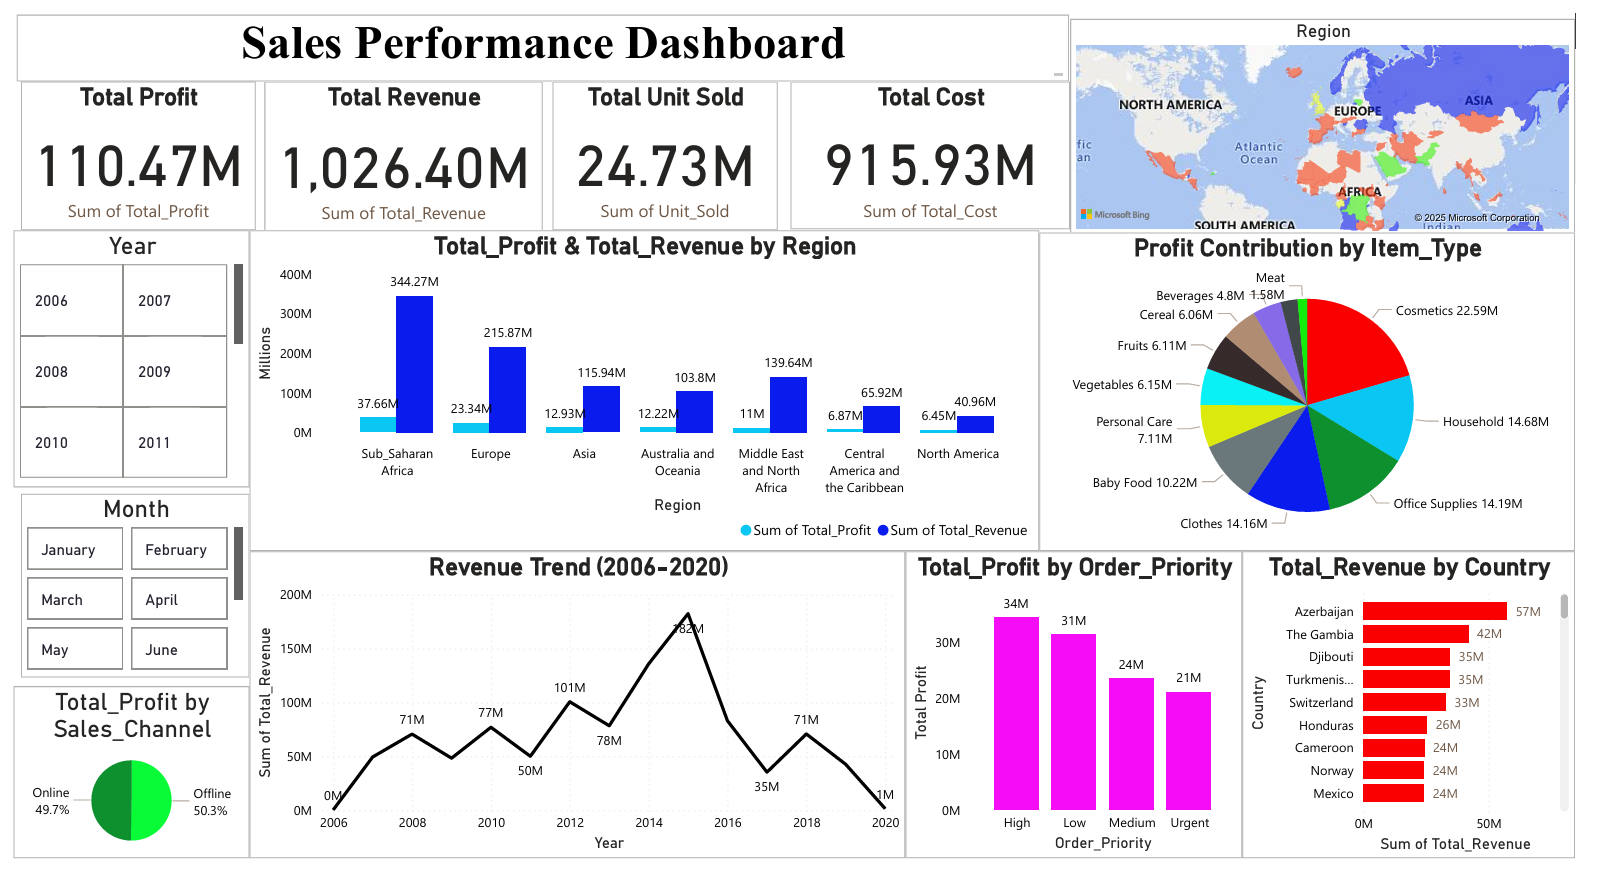

Layout of this report page (visuals, bound fields, positions):
{"tool":"powerbi","page":{"name":"Page 1","canvas":[1469,796],"ordinal":0},"visuals":[{"type":"card","title":"Total Profit","fields":{"Values":["Sum(Sales Performance - Copy 1 - Co.Total_Profit)"]},"box":[6.7,64.1,221.5,140.1],"z":0},{"type":"textbox","title":"Sales Performance Dashboard","box":[2.7,1.3,990.2,62.7],"z":1000},{"type":"card","title":"Total Revenue","fields":{"Values":["Sum(Sales Performance - Copy 1 - Co.Total_Revenue)"]},"box":[236.2,64.1,261.6,144.1],"z":2000},{"type":"advancedSlicerVisual","title":"Month","fields":{"Values":["Sales Performance - Copy 1 - Co.Ship_Date.Variation.Date Hierarchy.Month"]},"box":[6.7,452.4,214.9,172.1],"z":3000},{"type":"filledMap","title":"Region","fields":{"Category":["Sales Performance - Copy 1 - Co.Country"],"Series":["Sales Performance - Copy 1 - Co.Region"]},"box":[994.2,5.3,475.1,204.2],"z":4000},{"type":"clusteredColumnChart","title":" Total_Profit & Total_Revenue by Region","fields":{"Category":["Sales Performance - Copy 1 - Co.Region"],"Y":["Sum(Sales Performance - Copy 1 - Co.Total_Profit)","Sum(Sales Performance - Copy 1 - Co.Total_Revenue)"]},"box":[221.5,204.2,743.3,301.6],"z":5000},{"type":"barChart","title":"Total_Revenue by Country","fields":{"Category":["Sales Performance - Copy 1 - Co.Country"],"Y":["Sum(Sales Performance - Copy 1 - Co.Total_Revenue)"]},"box":[1155.7,505.8,313.6,289.6],"z":6000},{"type":"lineChart","title":"Revenue Trend (2006-2020)","fields":{"Category":["Sales Performance - Copy 1 - Co.Ship_Date.Variation.Date Hierarchy.Year"],"Y":["Sum(Sales Performance - Copy 1 - Co.Total_Revenue)"]},"box":[221.5,505.8,617.9,289.6],"z":7000},{"type":"pieChart","title":"Profit Contribution by Item_Type","fields":{"Category":["Sales Performance - Copy 1 - Co.Item_Type"],"Y":["Sum(Sales Performance - Copy 1 - Co.Total_Profit)"]},"box":[964.8,205.5,504.4,300.3],"z":8000},{"type":"pieChart","title":"Total_Profit by Sales_Channel","fields":{"Category":["Sales Performance - Copy 1 - Co.Sales_Channel"],"Y":["Sum(Sales Performance - Copy 1 - Co.Total_Profit)"]},"box":[0,632.5,221.5,162.8],"z":9000},{"type":"columnChart","title":"Total_Profit by Order_Priority","fields":{"Category":["Sales Performance - Copy 1 - Co.Order_Priority"],"Y":["Sum(Sales Performance - Copy 1 - Co.Total_Profit)"]},"box":[839.4,505.8,316.3,289.6],"z":10000},{"type":"advancedSlicerVisual","fields":{"Values":["Sales Performance - Copy 1 - Co.Ship_Date.Variation.Date Hierarchy.Year"]},"box":[0,204.2,221.5,241.5],"z":11000},{"type":"card","title":"Total Cost","fields":{"Values":["Sum(Sales Performance - Copy 1 - Co.Total_Cost)"]},"box":[731.3,64.1,262.9,138.8],"z":12000},{"type":"card","title":"Total Unit Sold","fields":{"Values":["Sum(Sales Performance - Copy 1 - Co.Unit_Sold)"]},"box":[507.1,64.1,212.2,140.1],"z":13000}]}

Visuals, with their boxes in screenshot pixels (x1, y1, x2, y2), scaled from the page's 1469x796 canvas onto the 1601x882 screenshot:
"Total Profit" card: bbox=(7, 71, 249, 226)
"Sales Performance Dashboard" textbox: bbox=(3, 1, 1082, 71)
"Total Revenue" card: bbox=(257, 71, 543, 231)
"Month" advancedSlicerVisual: bbox=(7, 501, 242, 692)
"Region" filledMap: bbox=(1084, 6, 1600, 232)
" Total_Profit & Total_Revenue by Region" clusteredColumnChart: bbox=(241, 226, 1051, 560)
"Total_Revenue by Country" barChart: bbox=(1260, 560, 1600, 881)
"Revenue Trend (2006-2020)" lineChart: bbox=(241, 560, 915, 881)
"Profit Contribution by Item_Type" pieChart: bbox=(1051, 228, 1600, 560)
"Total_Profit by Sales_Channel" pieChart: bbox=(0, 701, 241, 881)
"Total_Profit by Order_Priority" columnChart: bbox=(915, 560, 1260, 881)
advancedSlicerVisual - Sales Performance - Copy 1 - Co.Ship_Date.Variation.Date Hierarchy.Year: bbox=(0, 226, 241, 494)
"Total Cost" card: bbox=(797, 71, 1084, 225)
"Total Unit Sold" card: bbox=(553, 71, 784, 226)
